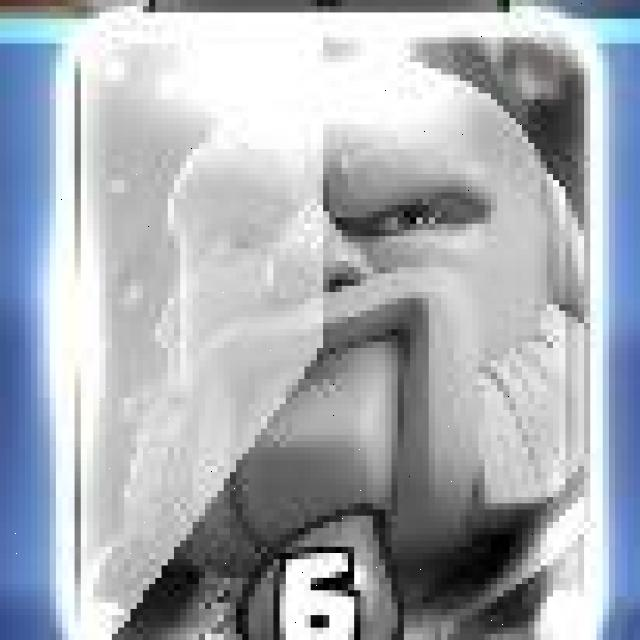Evolved_Royal_Giant: (70, 18, 592, 640)
